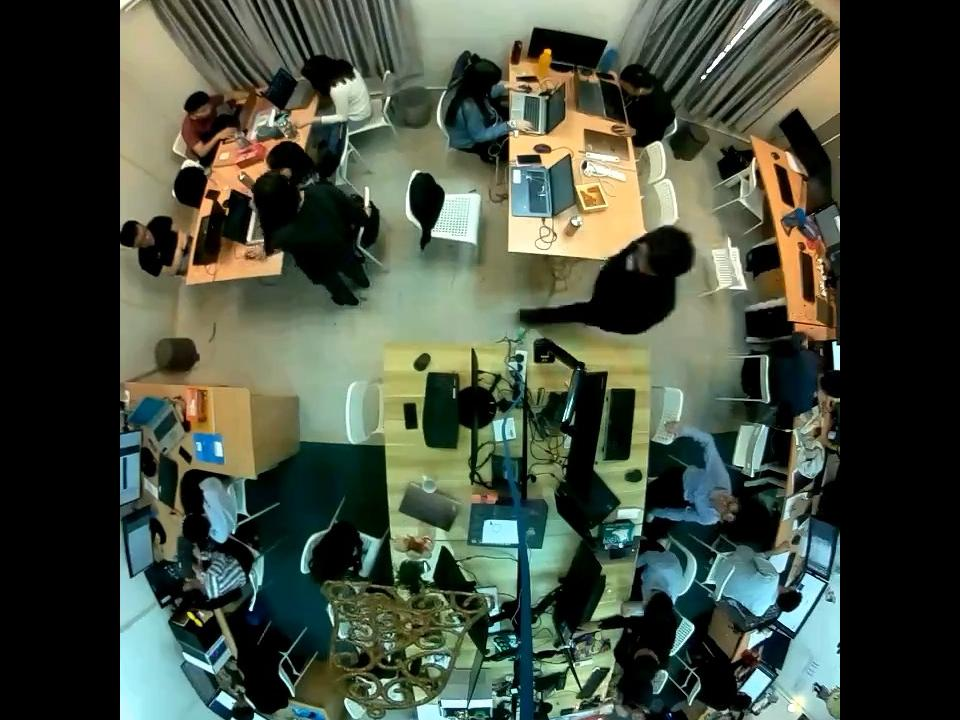name-tag: (625, 252, 637, 270)
